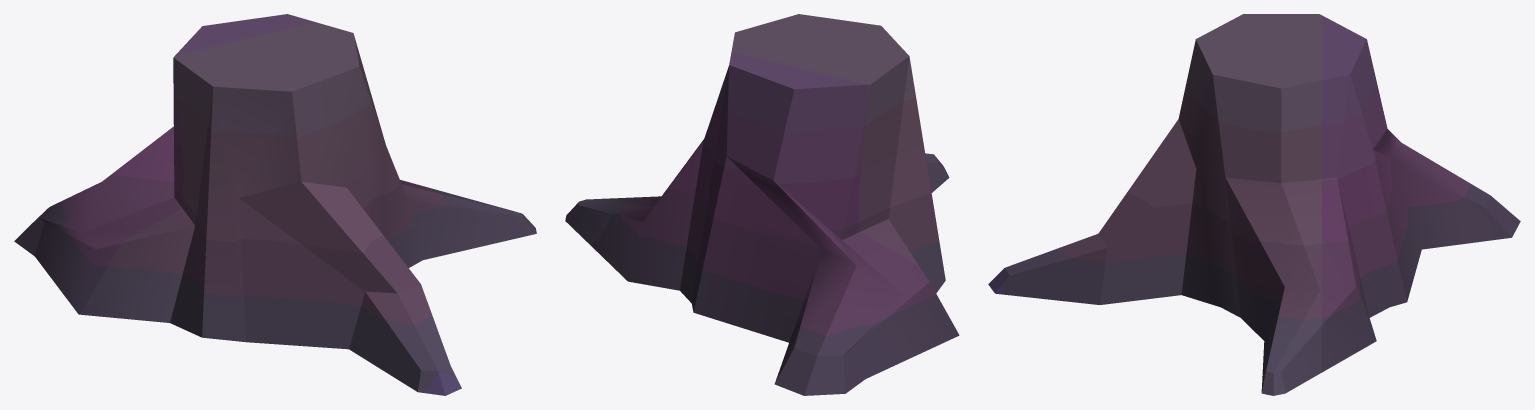
File: TreeDead2.fbx
3 views of the same model, side by side, from view 1: azimuth 30°, elevation 25°; view 2: azimuth 150°, elevation 25°; view 3: azimuth 270°, elevation 25° (orthographic). The views are drawn at different scales.
Parts seen in each view (by area): view 1: TreeDead3; view 2: TreeDead3; view 3: TreeDead3.
Part boxes in pixels (bbox=[...]): TreeDead3: bbox=[14, 14, 536, 395]; TreeDead3: bbox=[565, 14, 959, 395]; TreeDead3: bbox=[988, 14, 1520, 395].
Size of the model in its own units: 2.27 by 1.18 by 2.55.
